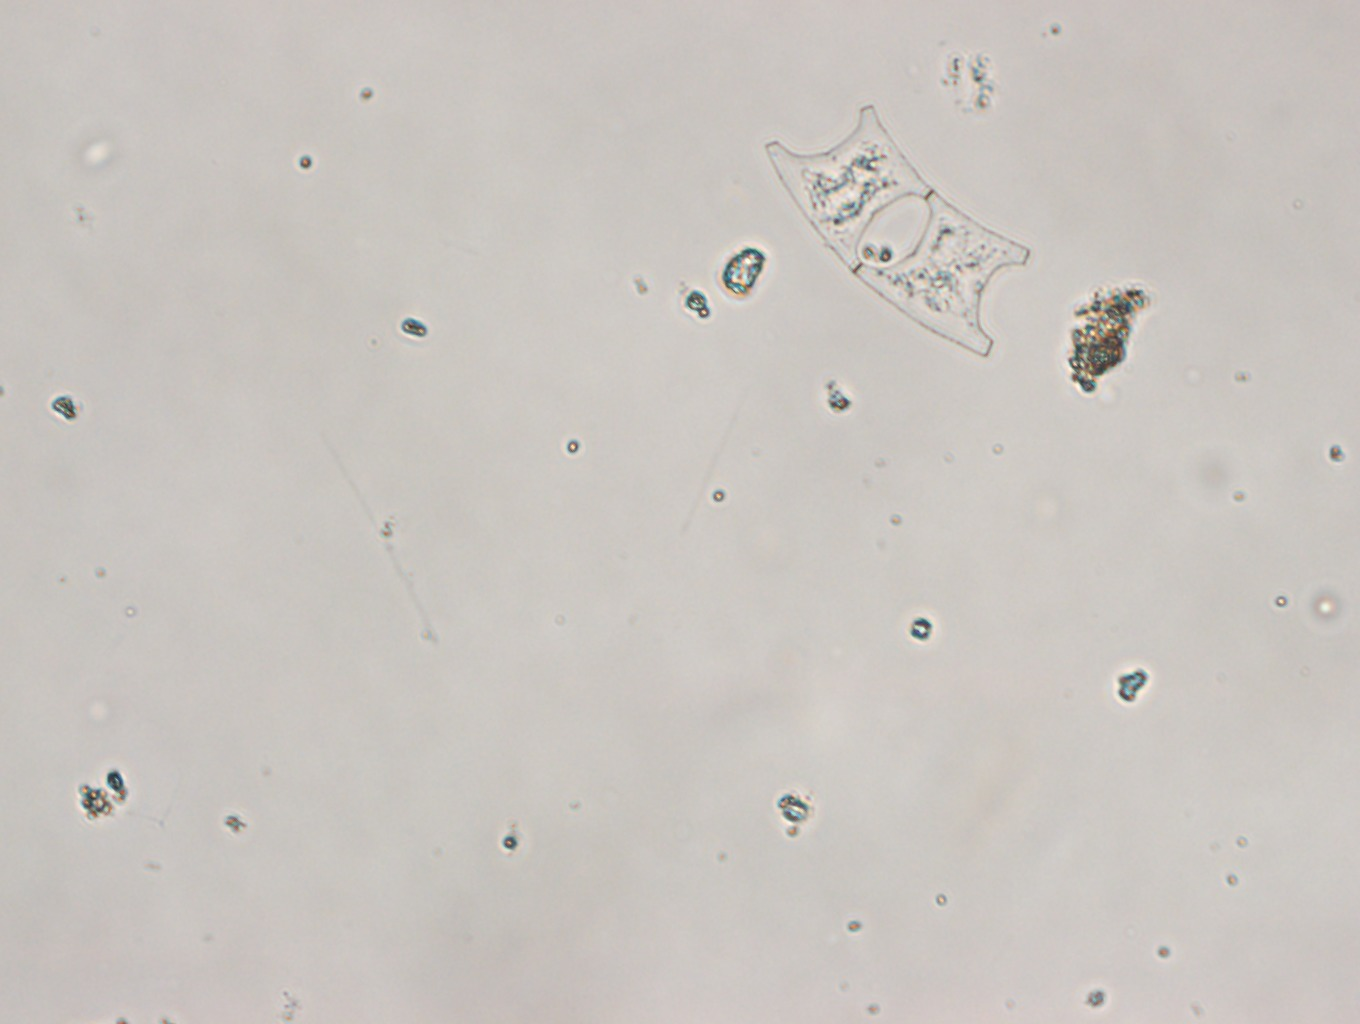eucampia: (765, 103, 1031, 368)
